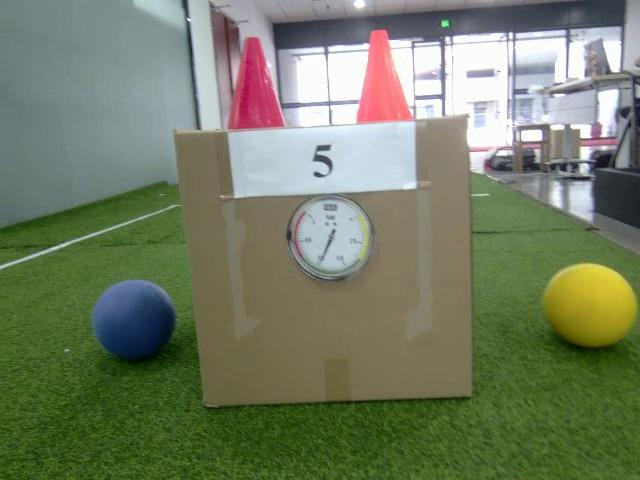5: (311, 141, 335, 181)
Dashboard: (284, 194, 375, 280)
blue_ball: (93, 279, 176, 361)
orange_barrel: (355, 29, 414, 121)
red_barrel: (228, 35, 283, 130)
ssi: (322, 202, 340, 213)
yellow_ball: (544, 264, 638, 348)
